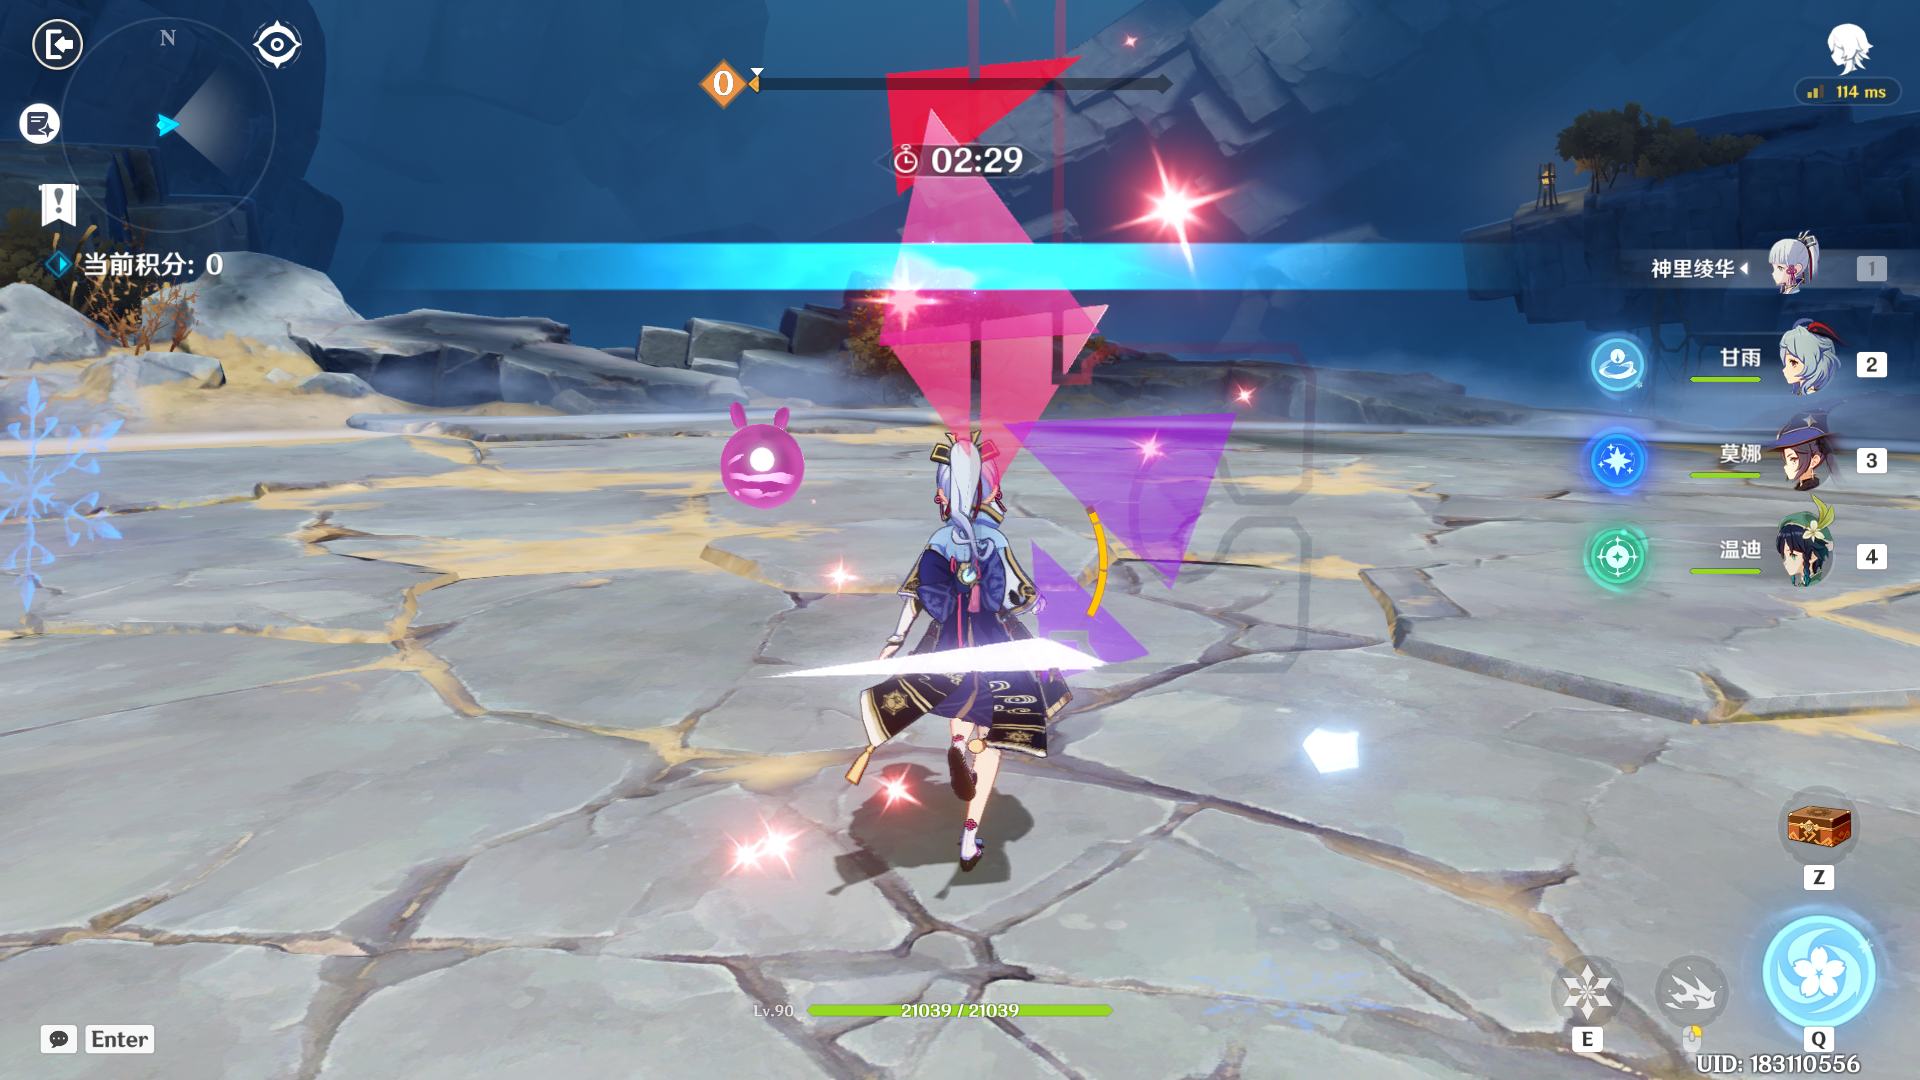character: (820, 396, 1097, 914)
